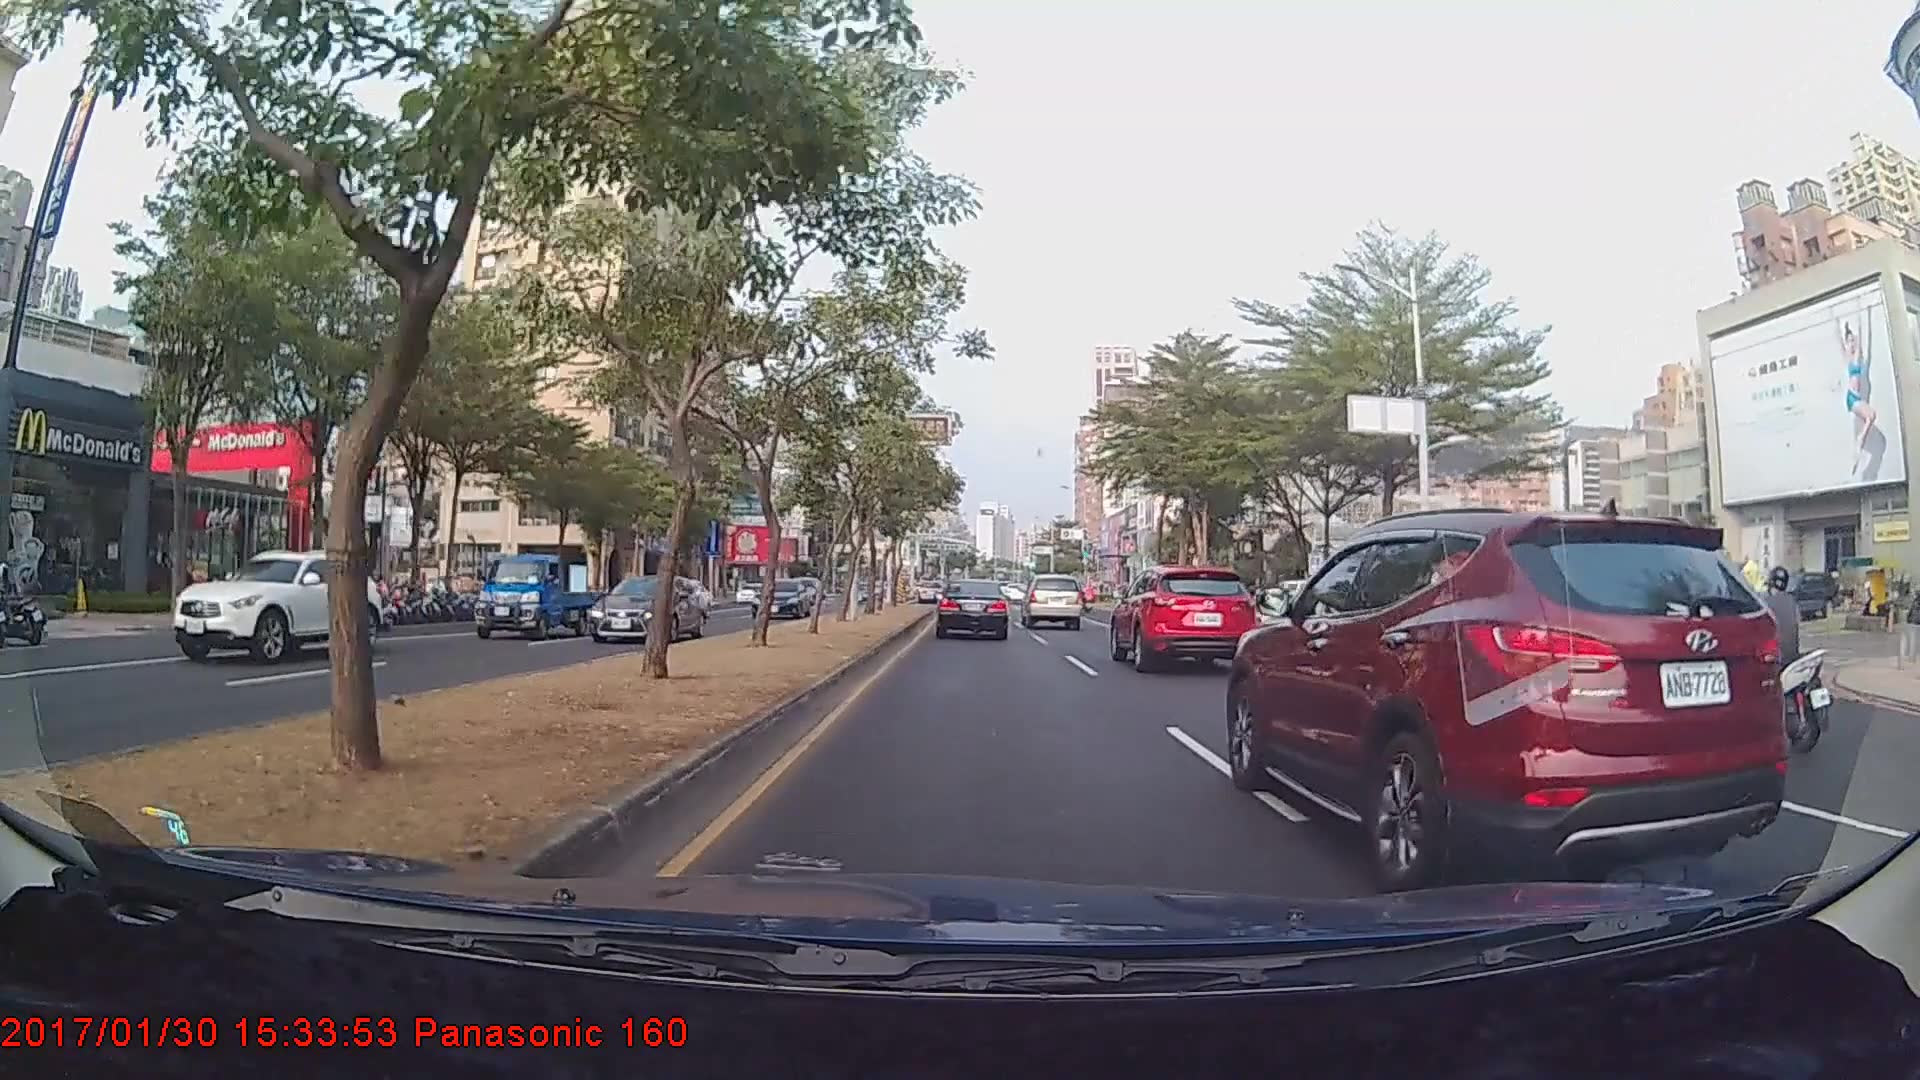vehicle: (1225, 506, 1785, 902), (166, 547, 381, 665), (1108, 564, 1261, 674), (472, 551, 600, 638), (591, 570, 705, 640), (935, 578, 1010, 641), (1021, 572, 1083, 630), (750, 578, 812, 620)
